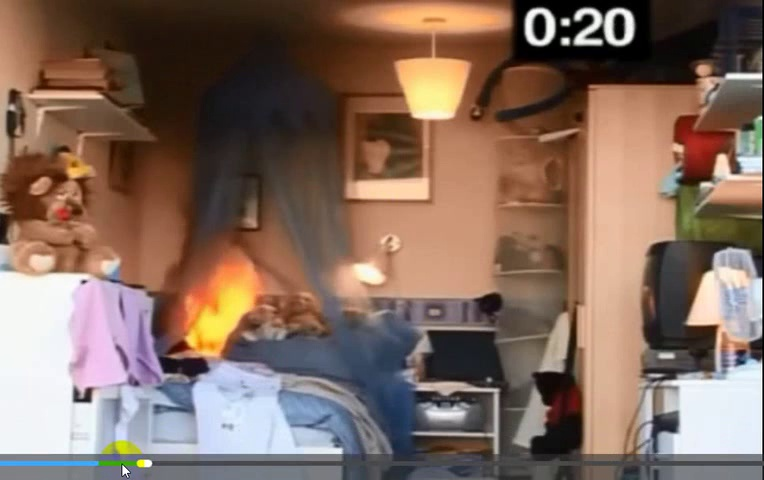fire: (161, 236, 267, 368)
